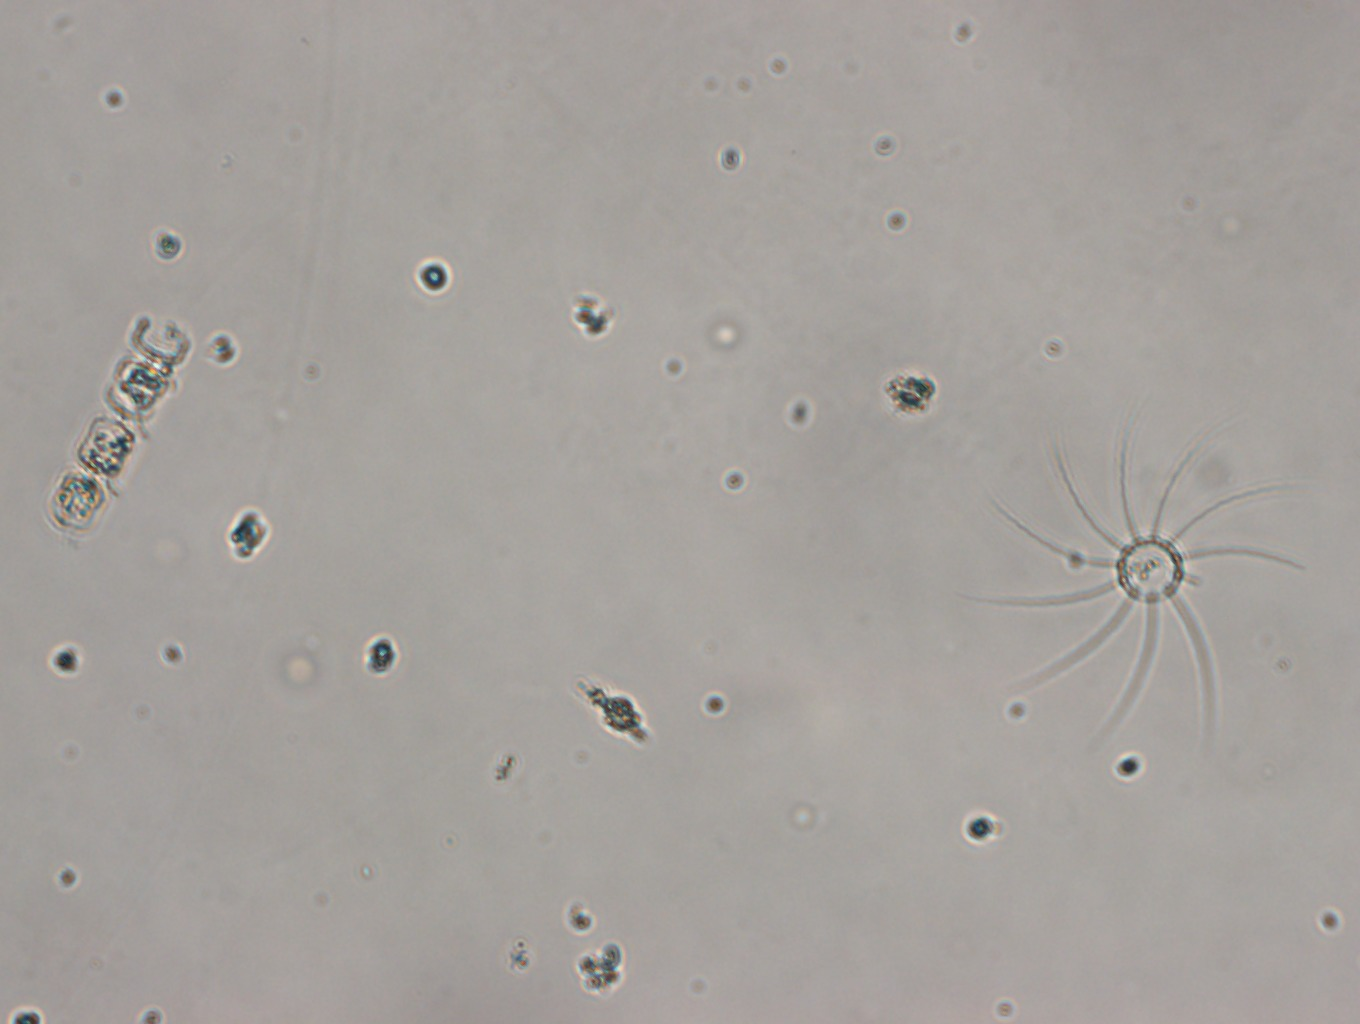bacteriastrum: (980, 425, 1299, 744)
